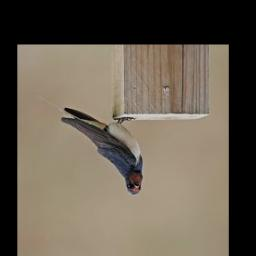Swallow: (35, 94, 145, 199)
